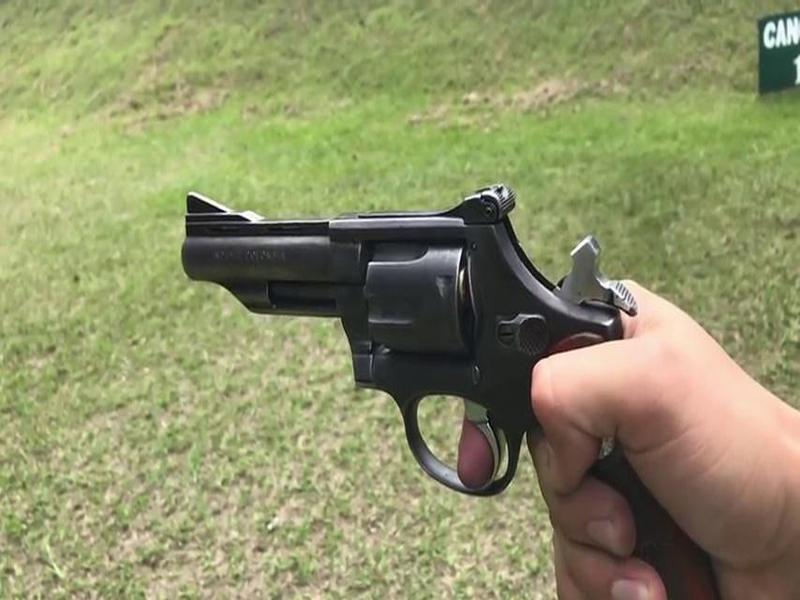Revolver: (177, 154, 651, 526)
